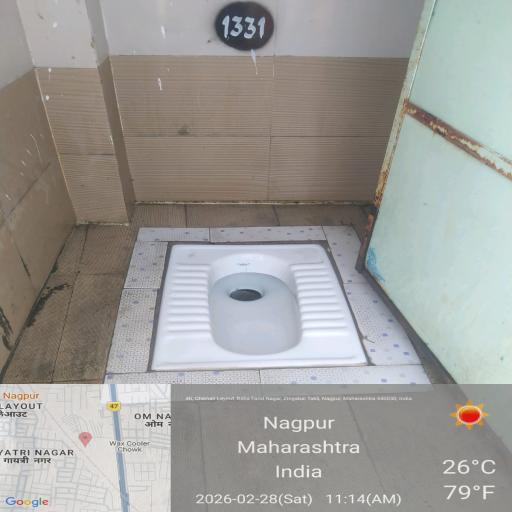clean_floor: (55, 56, 429, 224)
clean_indian: (154, 249, 426, 389)
partial_dirty_floor: (0, 236, 458, 512)
